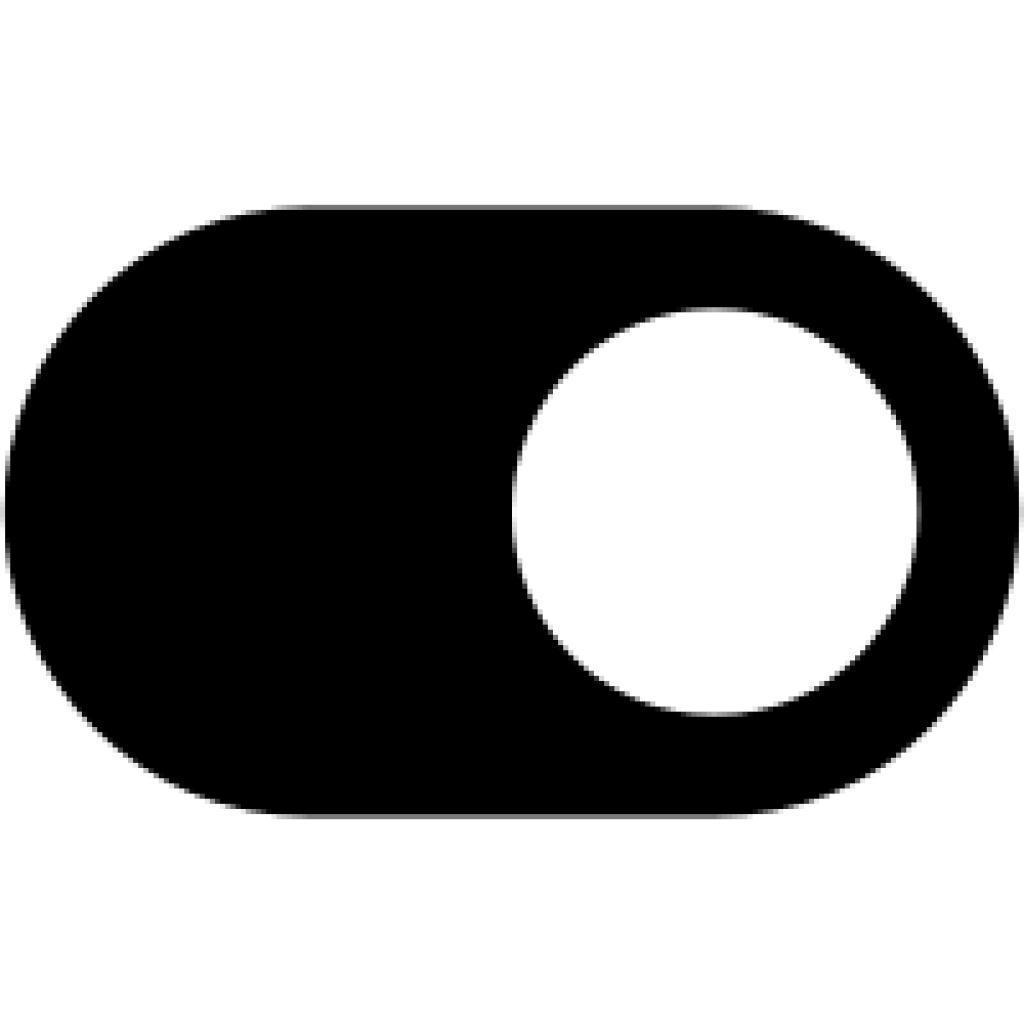switch: (8, 200, 1024, 819)
